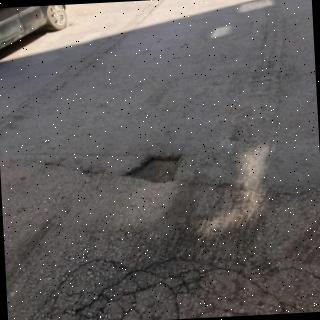pothole: (122, 156, 182, 184)
